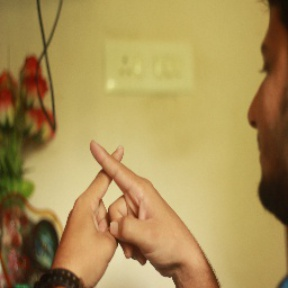X: (61, 124, 174, 231)
